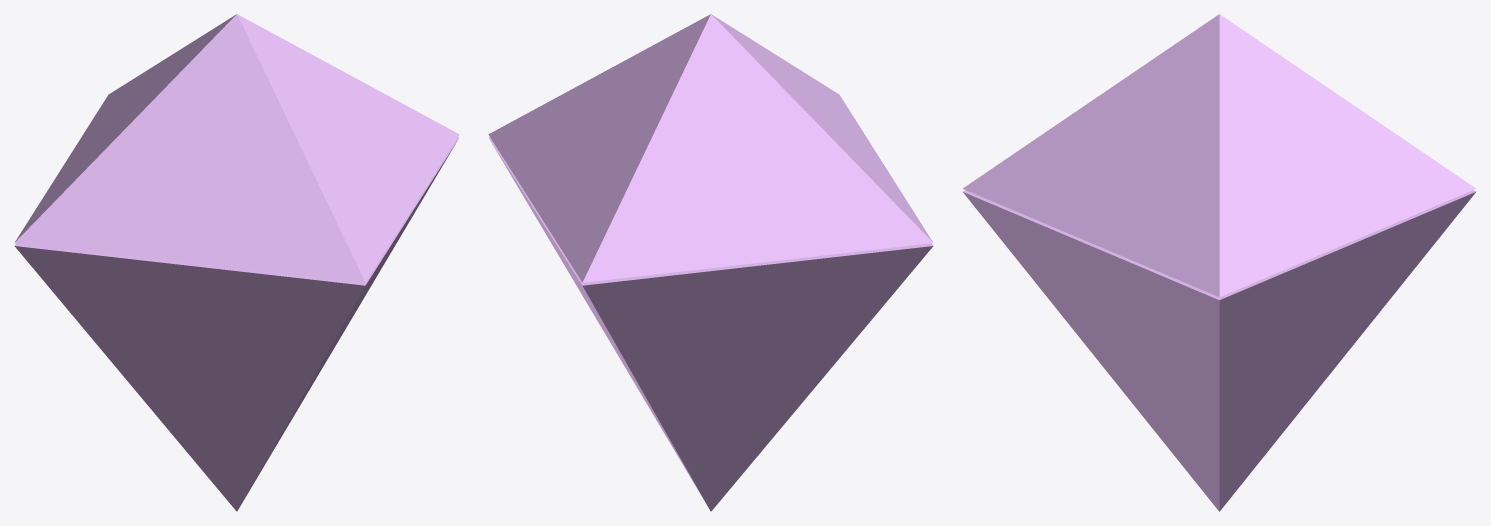
File: diamond.glb
The picture shows the model from 3 angles, left to right: view 1: azimuth 30°, elevation 25°; view 2: azimuth 150°, elevation 25°; view 3: azimuth 270°, elevation 25°; orthographic projection.
Parts seen in each view (by area): view 1: diamond; view 2: diamond; view 3: diamond.
Boxes of the visible parts, box(x1,y1,x2,y2) form: diamond: box(14, 14, 459, 511); diamond: box(488, 14, 933, 511); diamond: box(962, 14, 1476, 511).
Size of the model in its own units: 0.8 by 0.855 by 0.8.
